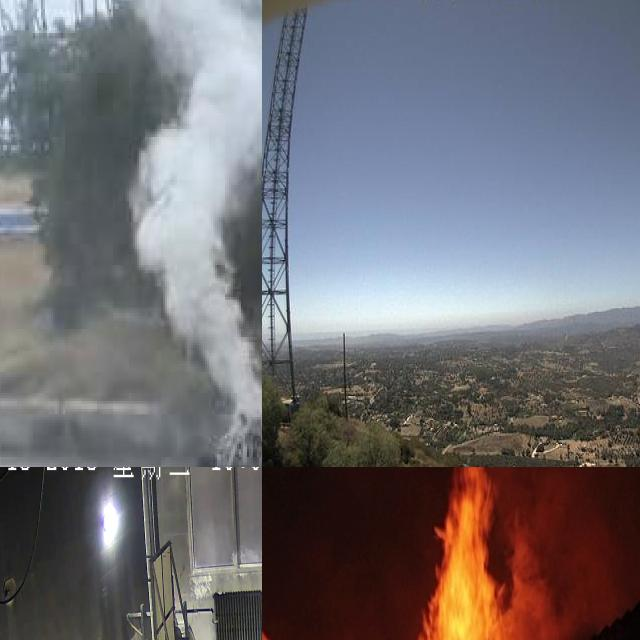fire: (262, 467, 564, 640)
smoke: (125, 0, 262, 411)
